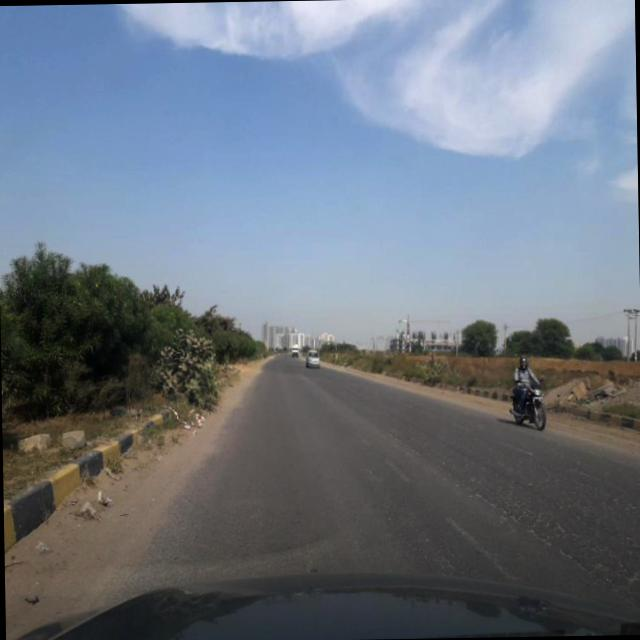crack: (454, 470, 640, 577), (464, 481, 587, 570)
